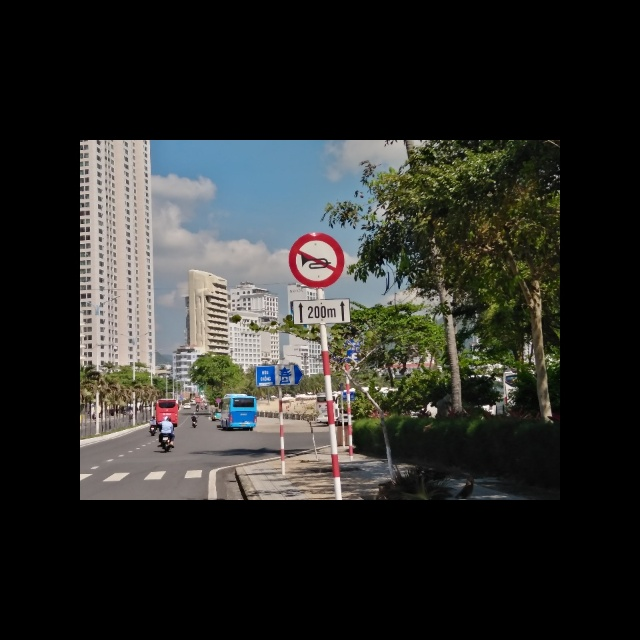Cấm bấm còi: (286, 232, 344, 288)
